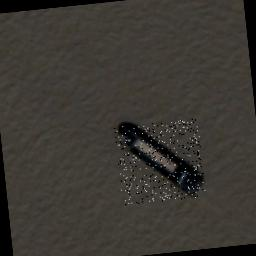boat: (114, 118, 206, 205)
